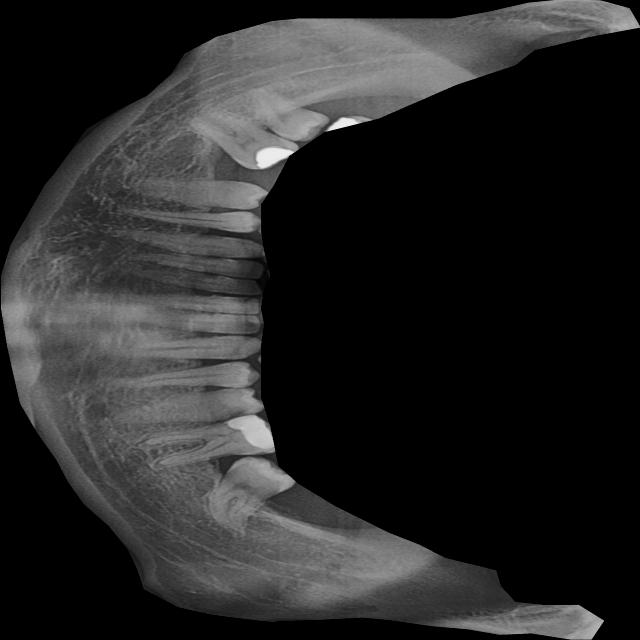mandibula: (0, 0, 640, 640)
